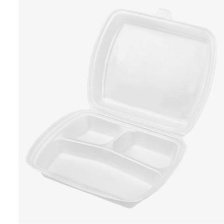foam_box: (19, 3, 222, 212)
